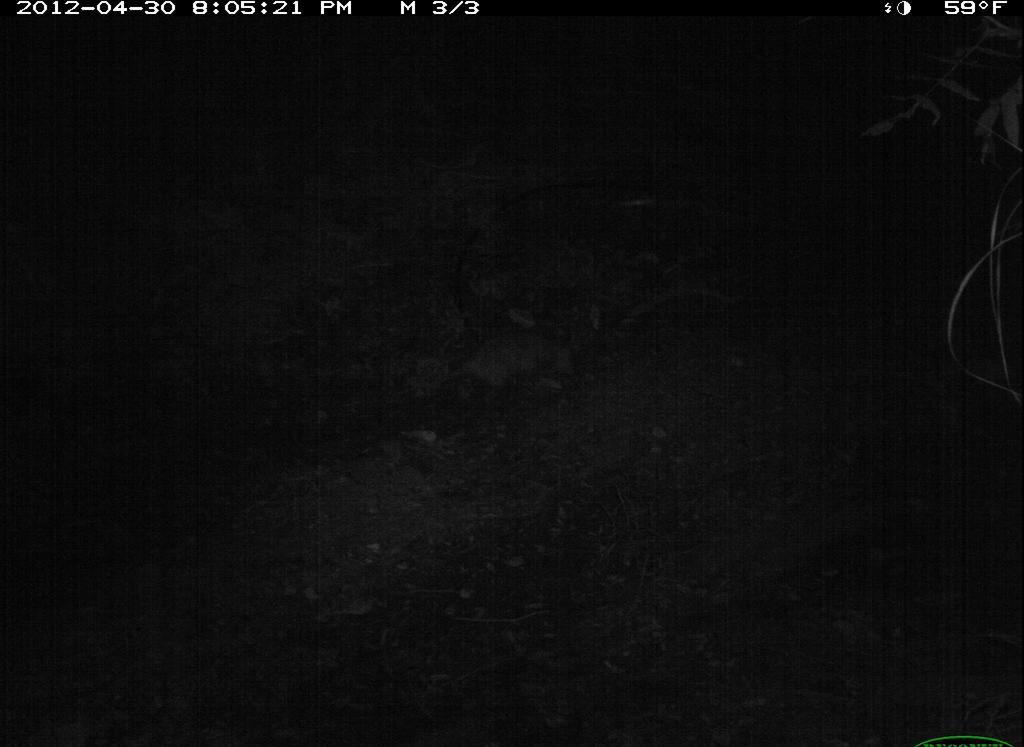opossum: (409, 309, 601, 406)
